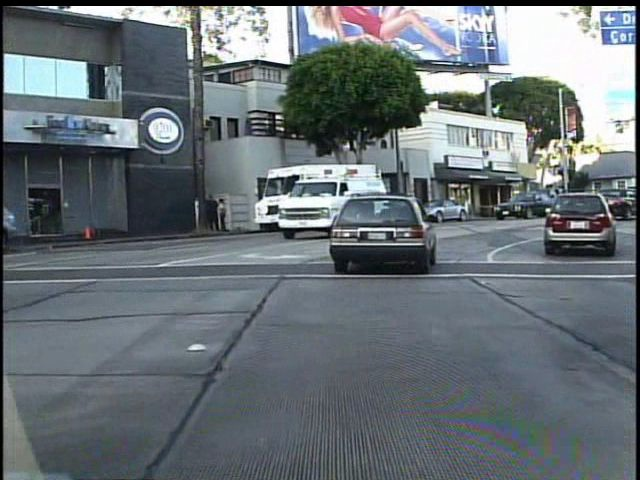person: (205, 191, 222, 233), (216, 195, 231, 233)
